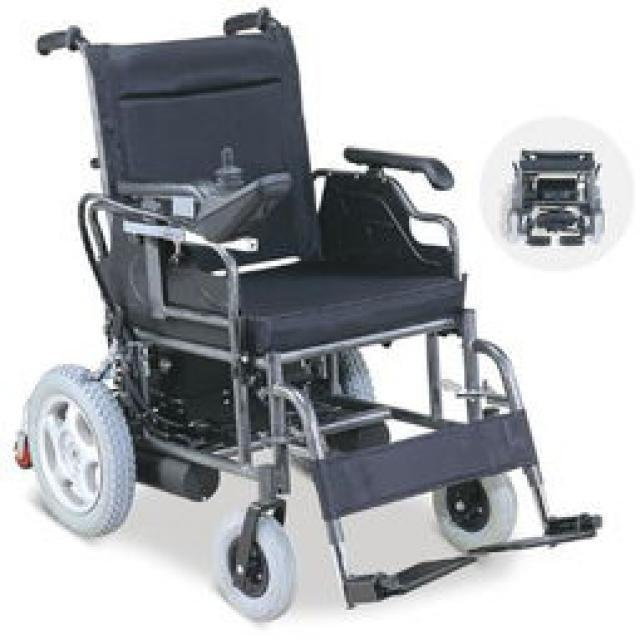wheelchair: (7, 2, 610, 620)
